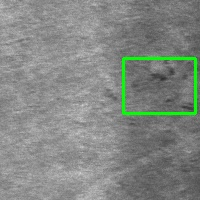rolled-in_scale: (123, 58, 195, 113)
